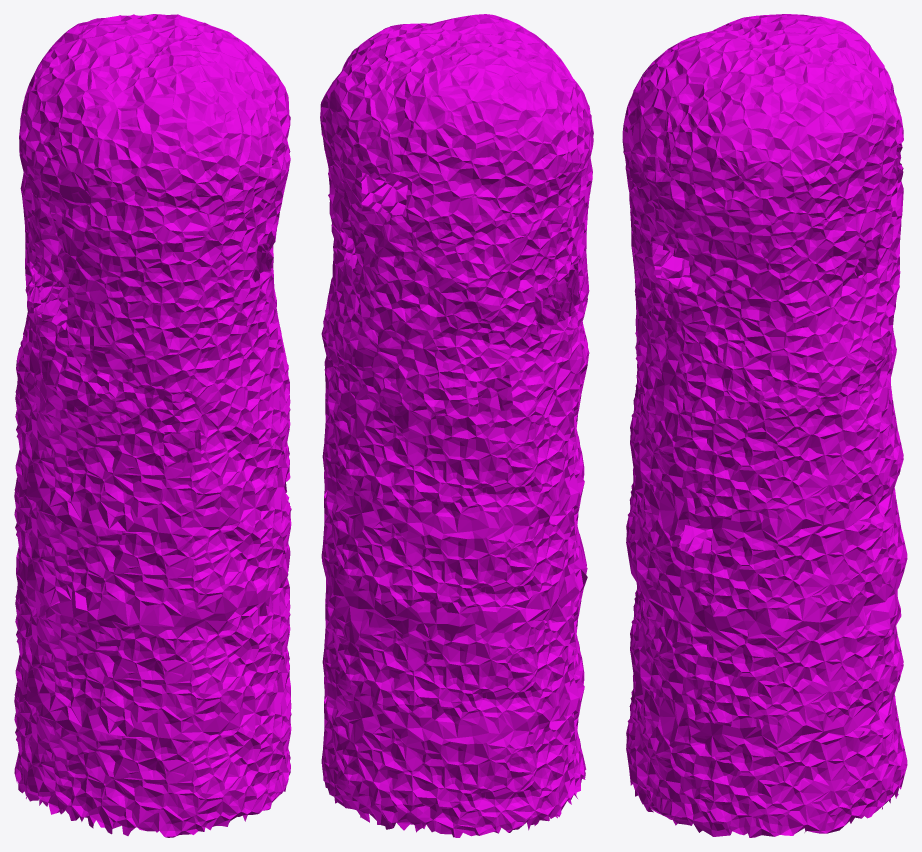
The model's file is well_cylinder.gltf.
3 views of the same model, side by side, from view 1: azimuth 30°, elevation 25°; view 2: azimuth 150°, elevation 25°; view 3: azimuth 270°, elevation 25° (orthographic).
Visible parts, largest first — view 1: Cylinder.lp; view 2: Cylinder.lp; view 3: Cylinder.lp.
Part boxes in pixels (x1=…): Cylinder.lp: x1=14, y1=14, x2=291, y2=837; Cylinder.lp: x1=320, y1=14, x2=593, y2=837; Cylinder.lp: x1=622, y1=14, x2=907, y2=837.
Size of the model in its own units: 58.72 by 174 by 59.88.
